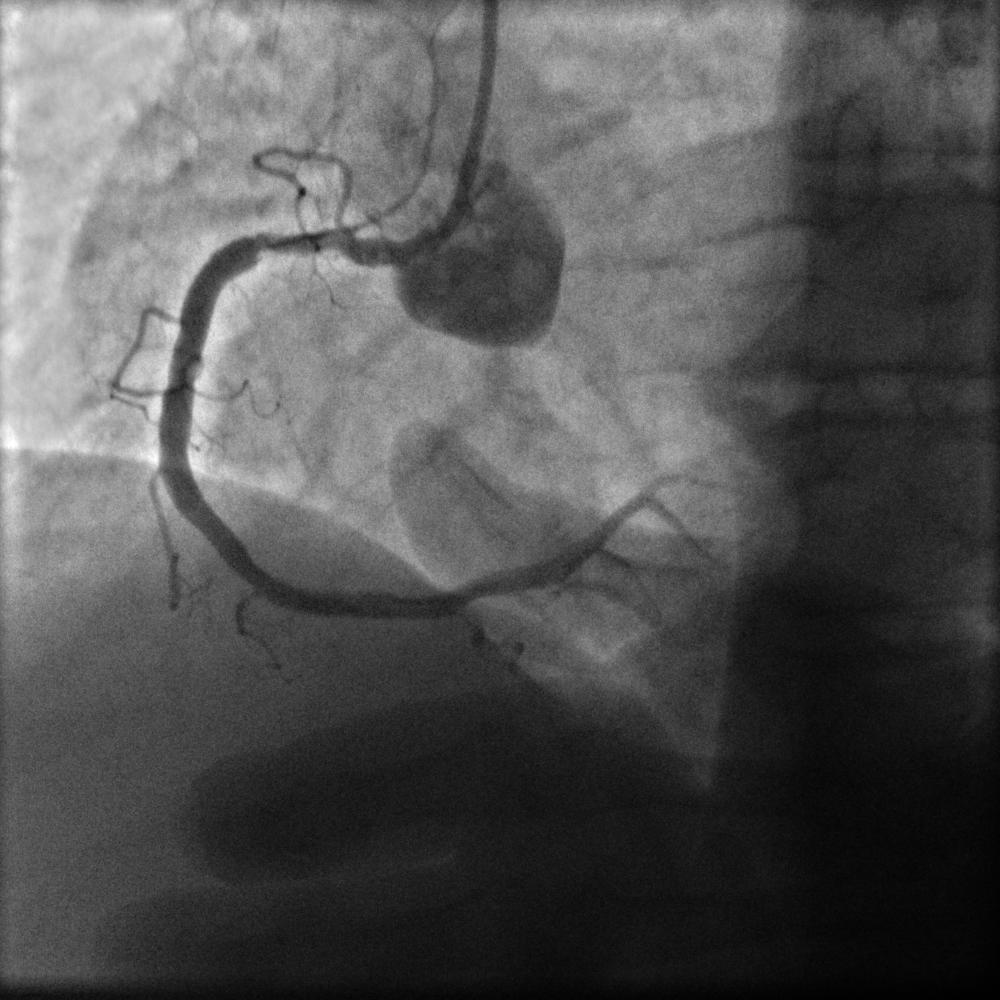Stenosis: (248, 219, 363, 281)
